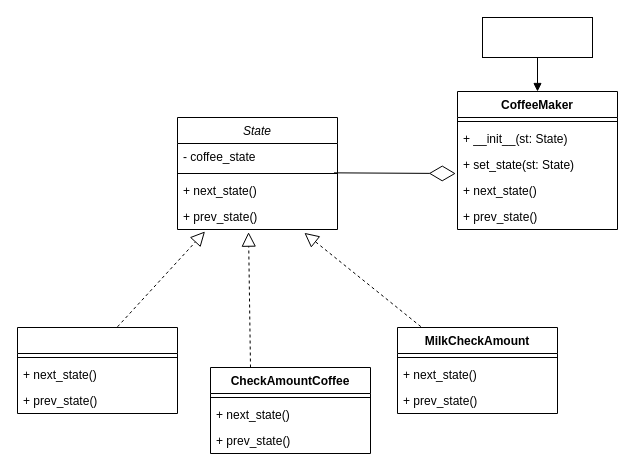
This 635x474 diagram has some shape labels left out. The box of each missing label's shape, as (x1, y1, x2, y2) in pixels:
Client: (482, 16, 592, 58)
Idle: (16, 326, 178, 414)
